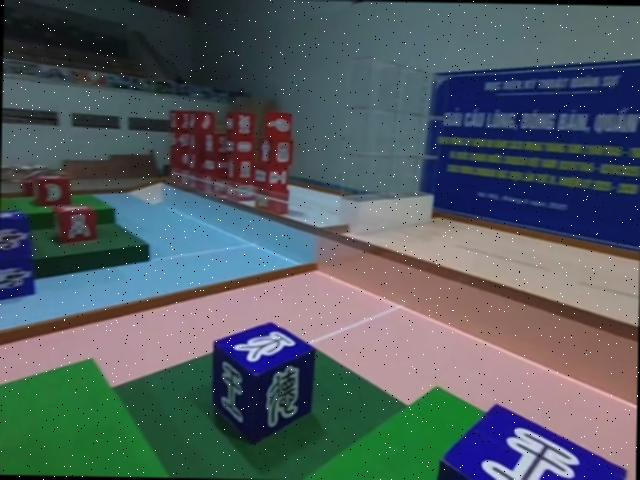R1 Blue: (0, 210, 37, 304)
R2 Fake Blue: (425, 395, 630, 480), (212, 322, 318, 448)
